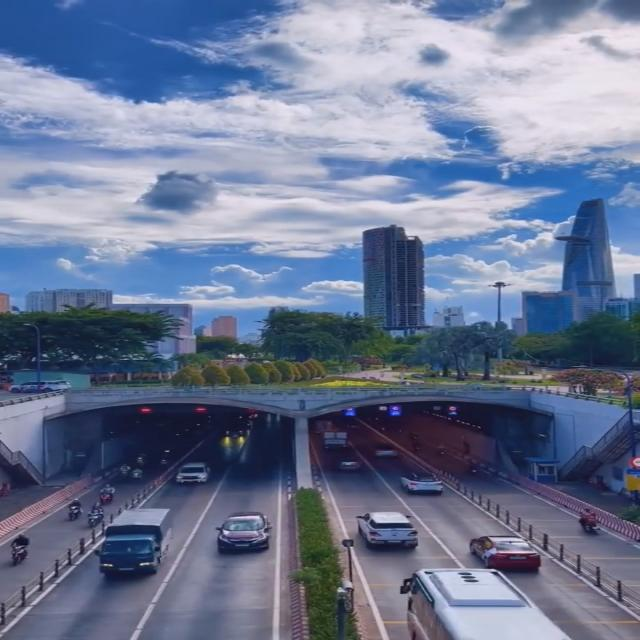bus: (406, 568, 568, 640)
car: (470, 536, 541, 574), (355, 512, 416, 556), (214, 510, 270, 554), (399, 470, 444, 496), (174, 460, 211, 487)
motorbike: (7, 530, 28, 568), (579, 508, 601, 536), (65, 498, 83, 520), (98, 484, 116, 505), (87, 504, 104, 526)
truck: (96, 510, 173, 578), (323, 430, 349, 450)
